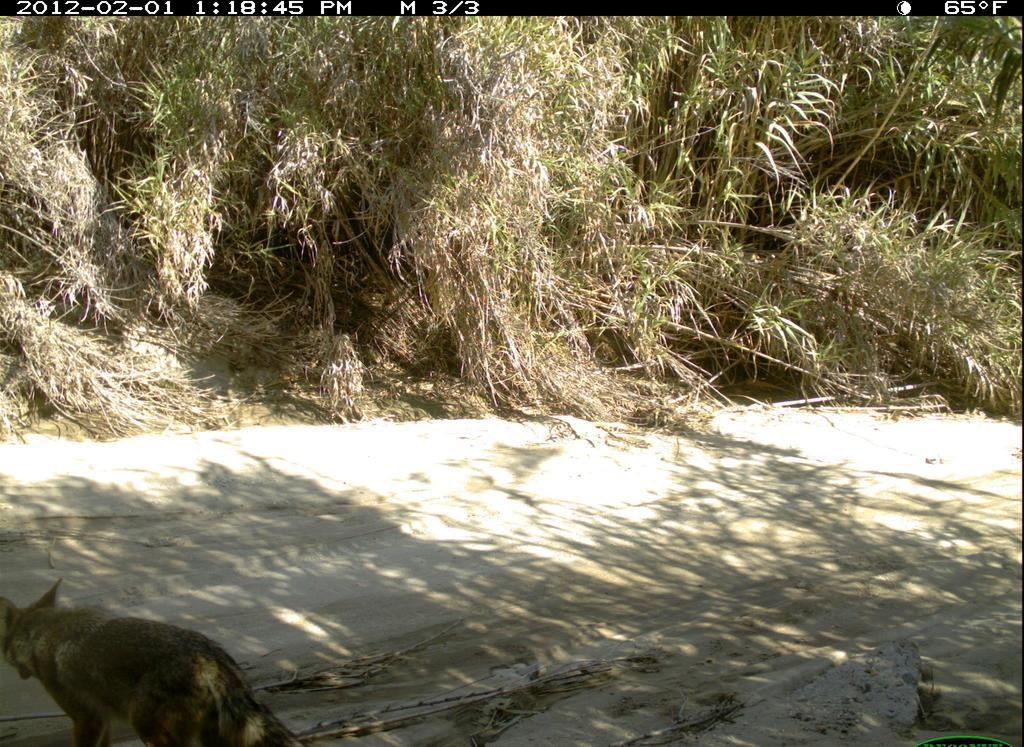coyote: (1, 577, 312, 747)
